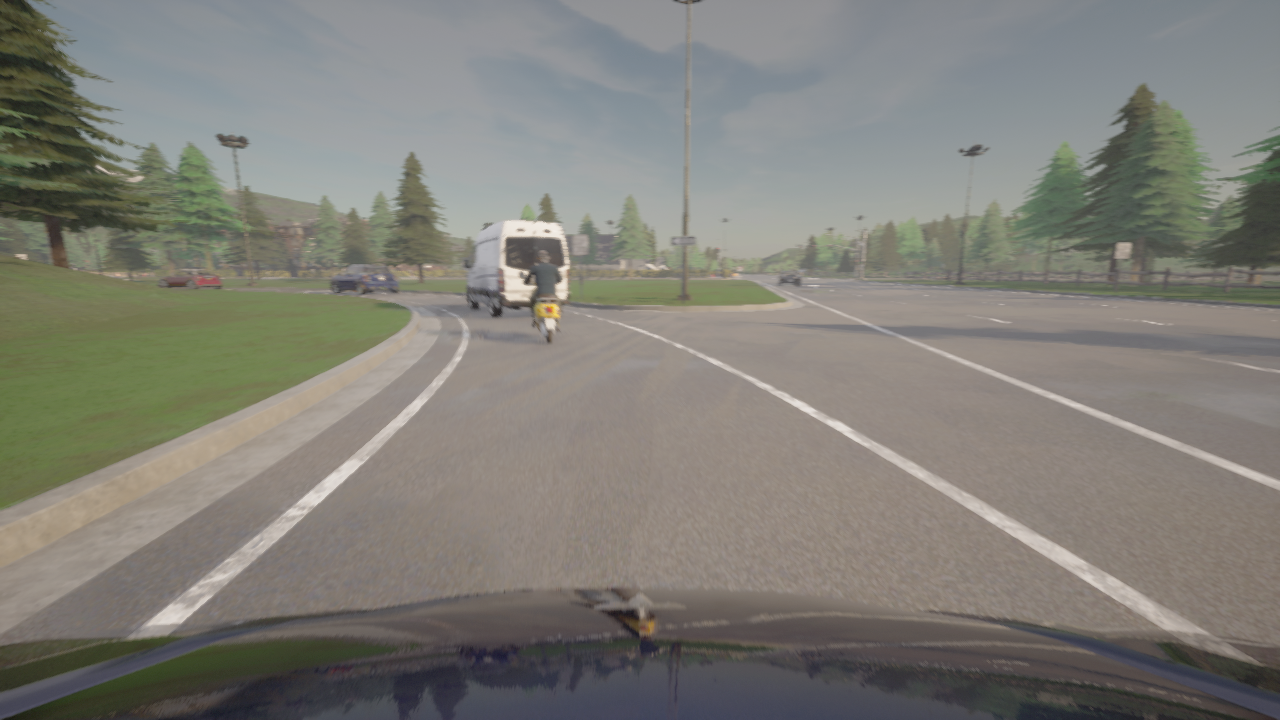cyclist: (0, 588, 1279, 719), (463, 220, 570, 317), (519, 271, 564, 344), (331, 263, 399, 295), (158, 269, 222, 289), (777, 270, 800, 286)
